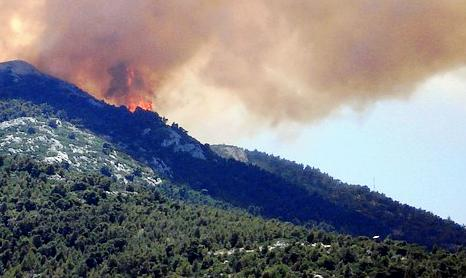fire: (114, 92, 159, 122)
smoke: (1, 2, 466, 138)
